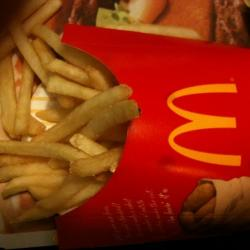fries: (4, 32, 117, 206)
